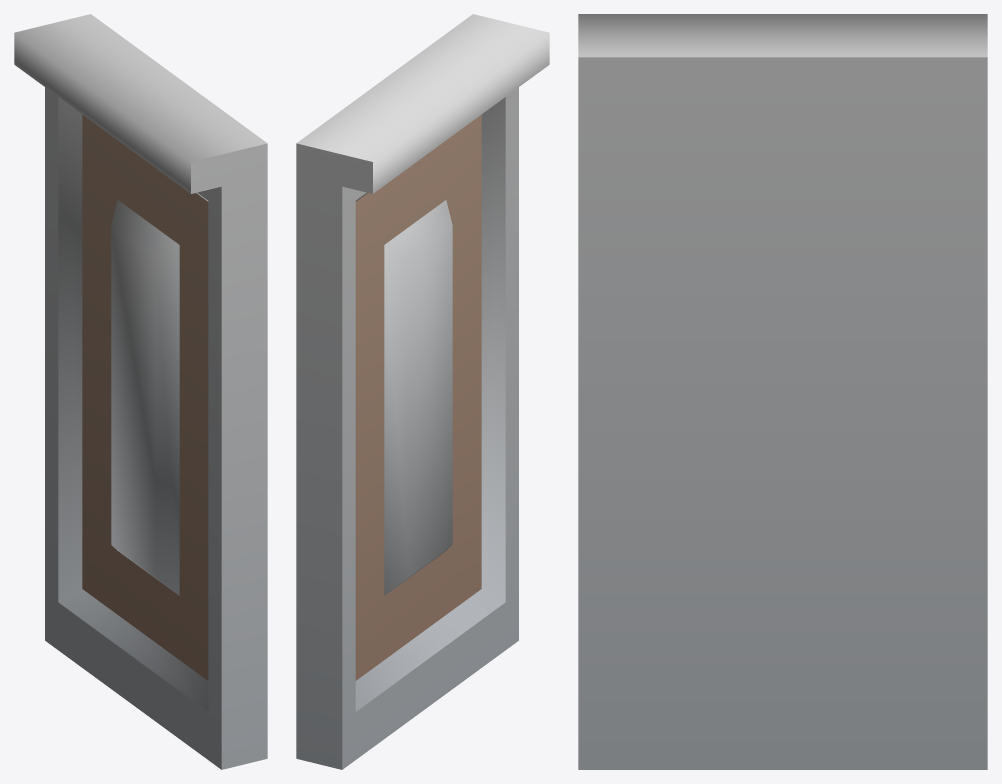
Rendered from paneling-b-half (%wall).glb.
3 renders of one model, left to right at view 1: azimuth 30°, elevation 25°; view 2: azimuth 150°, elevation 25°; view 3: azimuth 270°, elevation 25°, orthographic. The views are drawn at different scales.
Visible parts, largest first — view 1: paneling-b-half (%wall); view 2: paneling-b-half (%wall); view 3: paneling-b-half (%wall).
Part boxes in pixels (x1,y1,x2,y2): paneling-b-half (%wall): (14, 14, 267, 769); paneling-b-half (%wall): (296, 14, 549, 769); paneling-b-half (%wall): (578, 14, 987, 769).
Size of the model in its own units: 0.125 by 0.9604 by 0.5.
